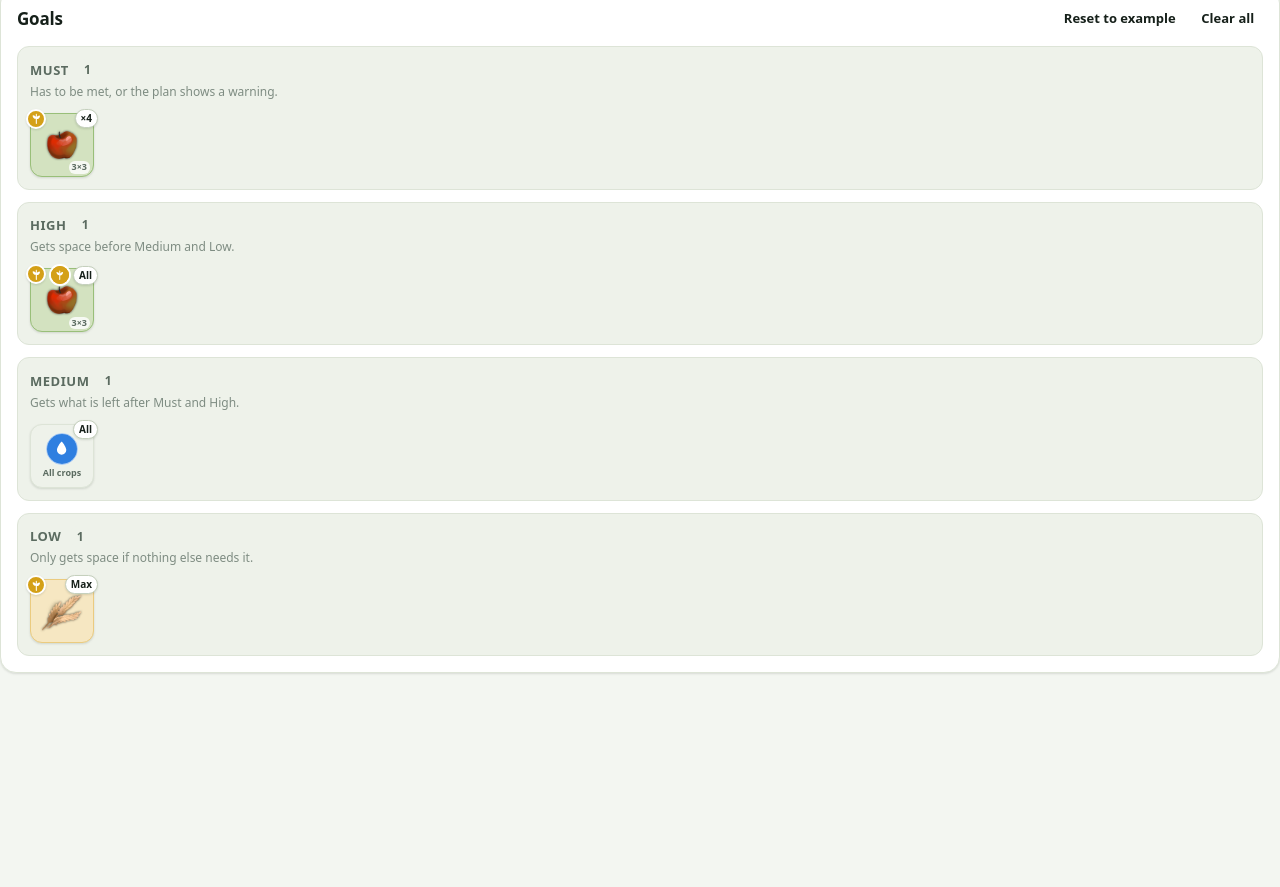
Test: GoalsBoard popover › Remove deletes the goal and closes the popover
The width and height of the screenshot is (1280, 887).
Click the button with aria-label "Wheat · Quantity · Maximize".
click(62, 611)  # box top-left (30, 579), bottom-right (94, 643)
(page scrolled)
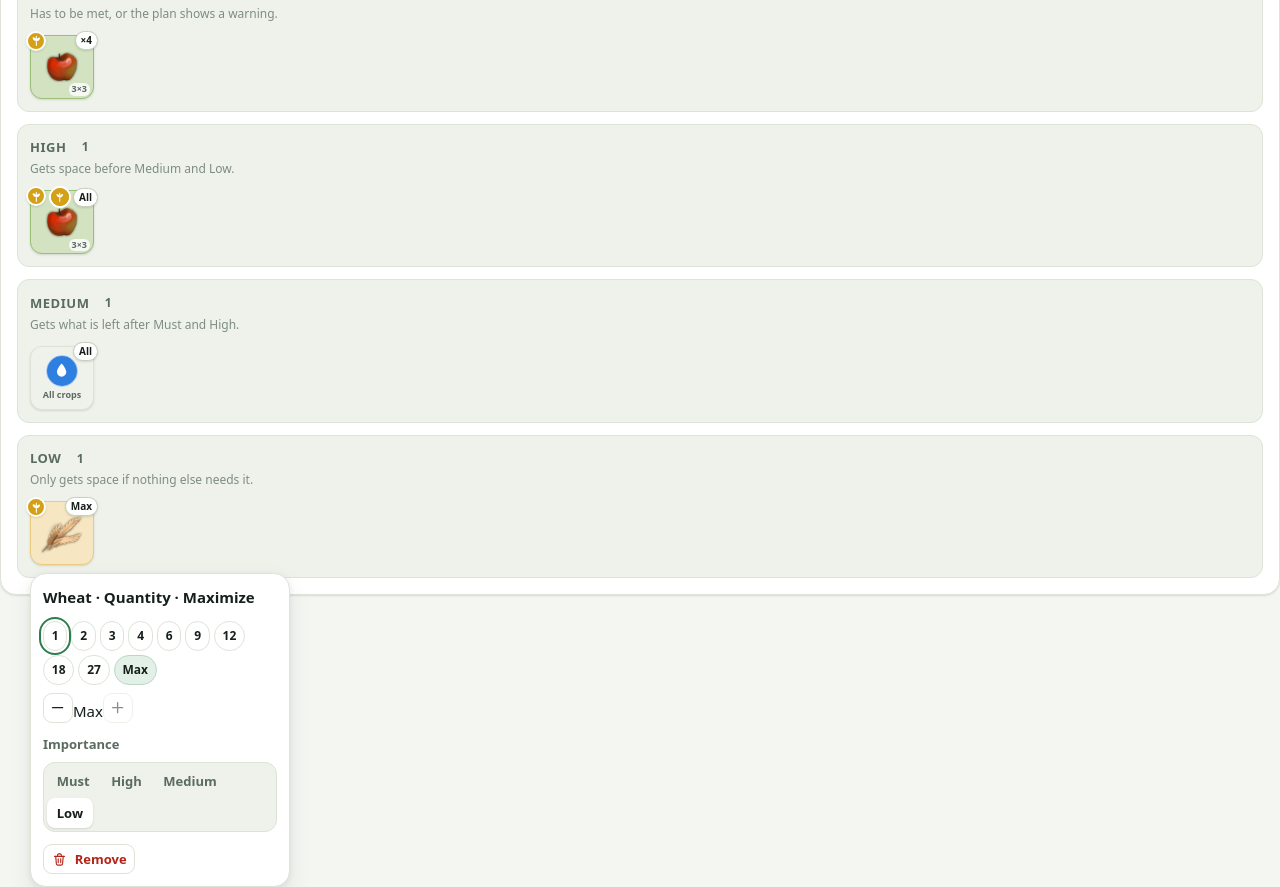
Click the button "Remove".
click(89, 859)  # box top-left (43, 844), bottom-right (135, 874)
(page scrolled)
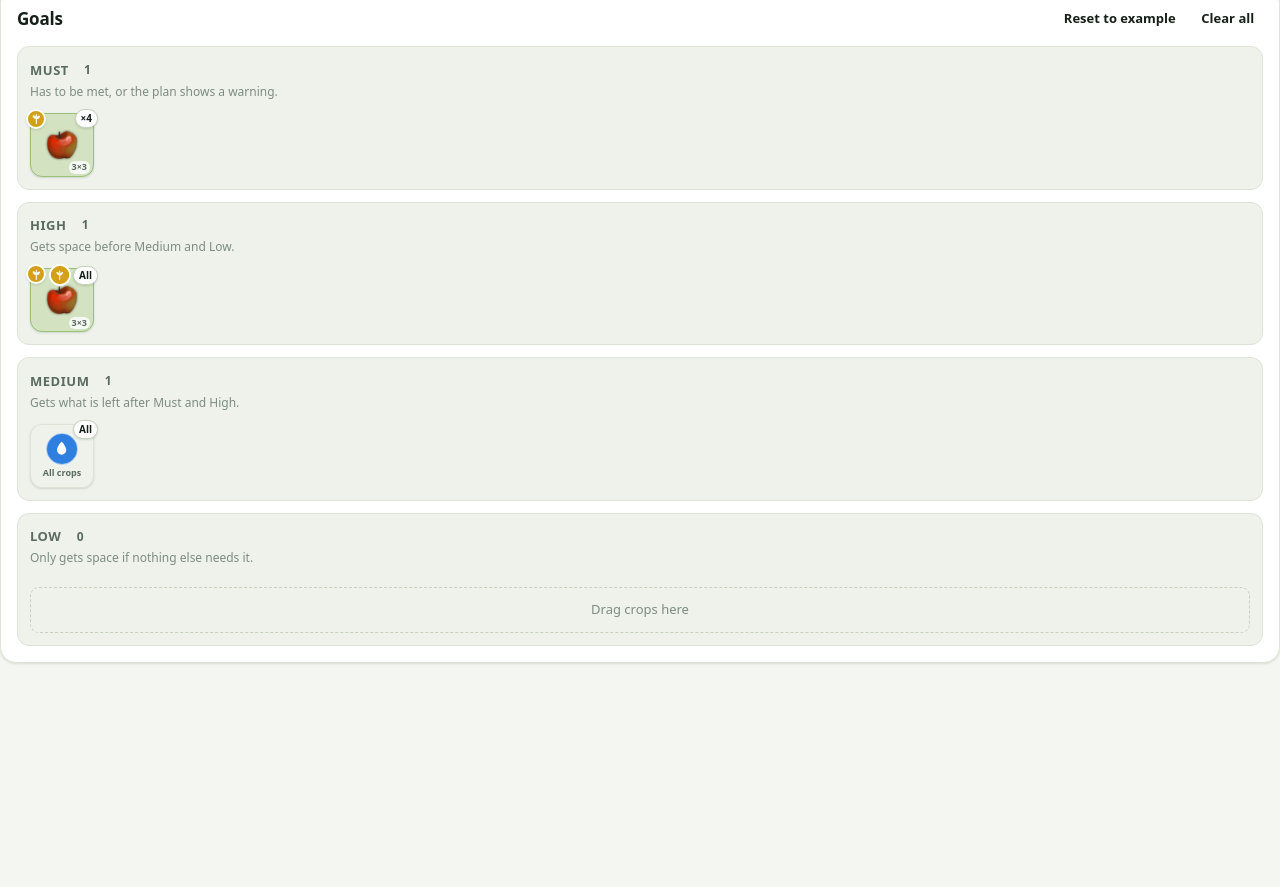
Result: the dialog is gone
